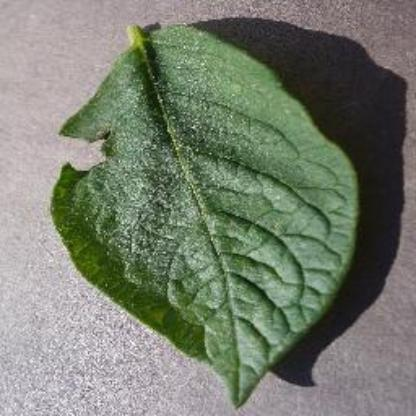Healthy-plant: (46, 17, 384, 386)
